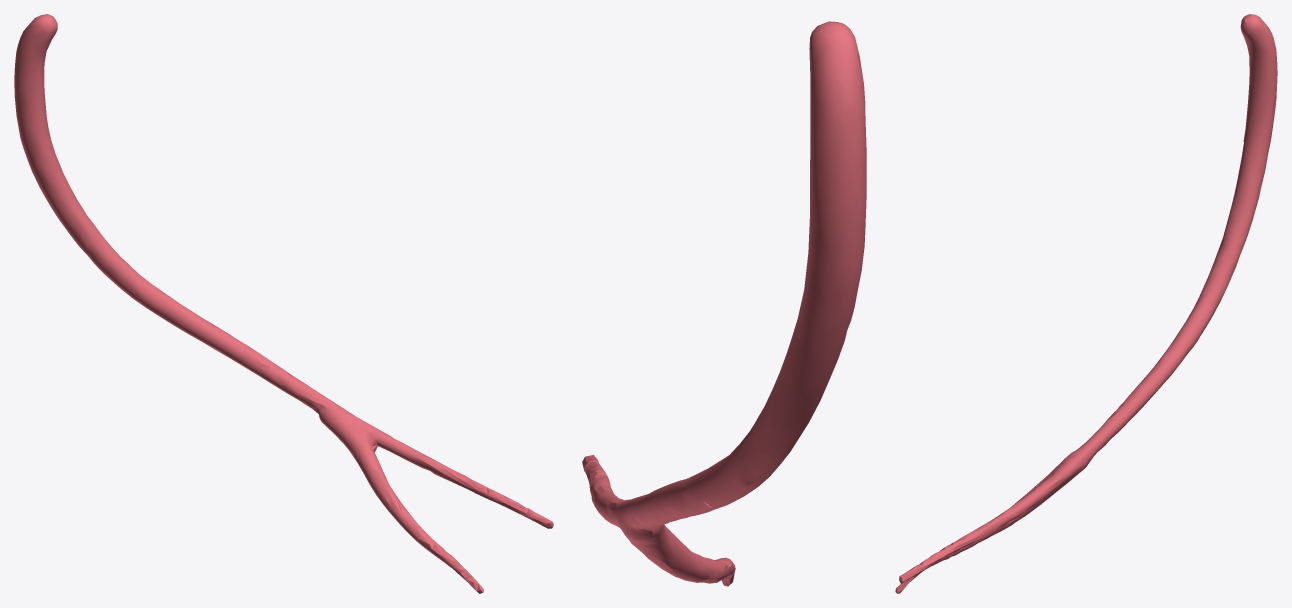
Rendered from fma3914_mm428.glb.
3 renders of one model, left to right at view 1: azimuth 30°, elevation 25°; view 2: azimuth 150°, elevation 25°; view 3: azimuth 270°, elevation 25°, orthographic. The views are drawn at different scales.
Parts seen in each view (by area): view 1: FMA3914_MM428; view 2: FMA3914_MM428; view 3: FMA3914_MM428.
Boxes of the visible parts, x1=… form: FMA3914_MM428: x1=14, y1=14, x2=553, y2=593; FMA3914_MM428: x1=582, y1=21, x2=866, y2=586; FMA3914_MM428: x1=895, y1=14, x2=1277, y2=593.
Bounding box in the file's own units: 0.0325 × 0.0451 × 0.0335.
